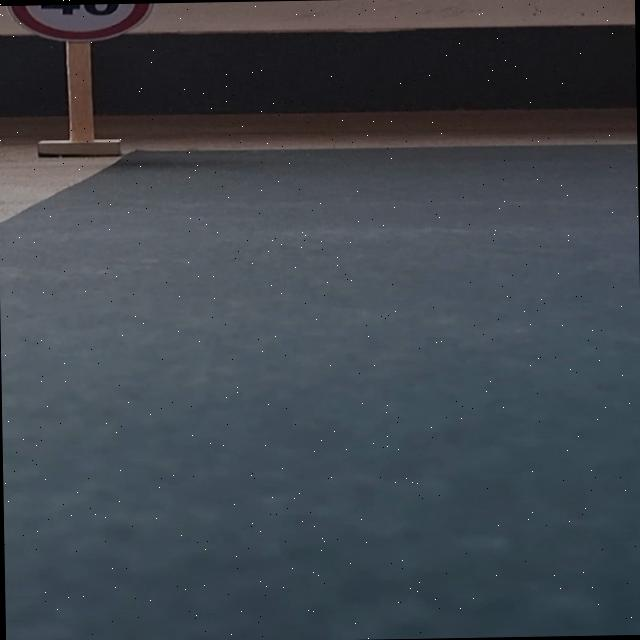Speed40: (3, 2, 158, 44)
